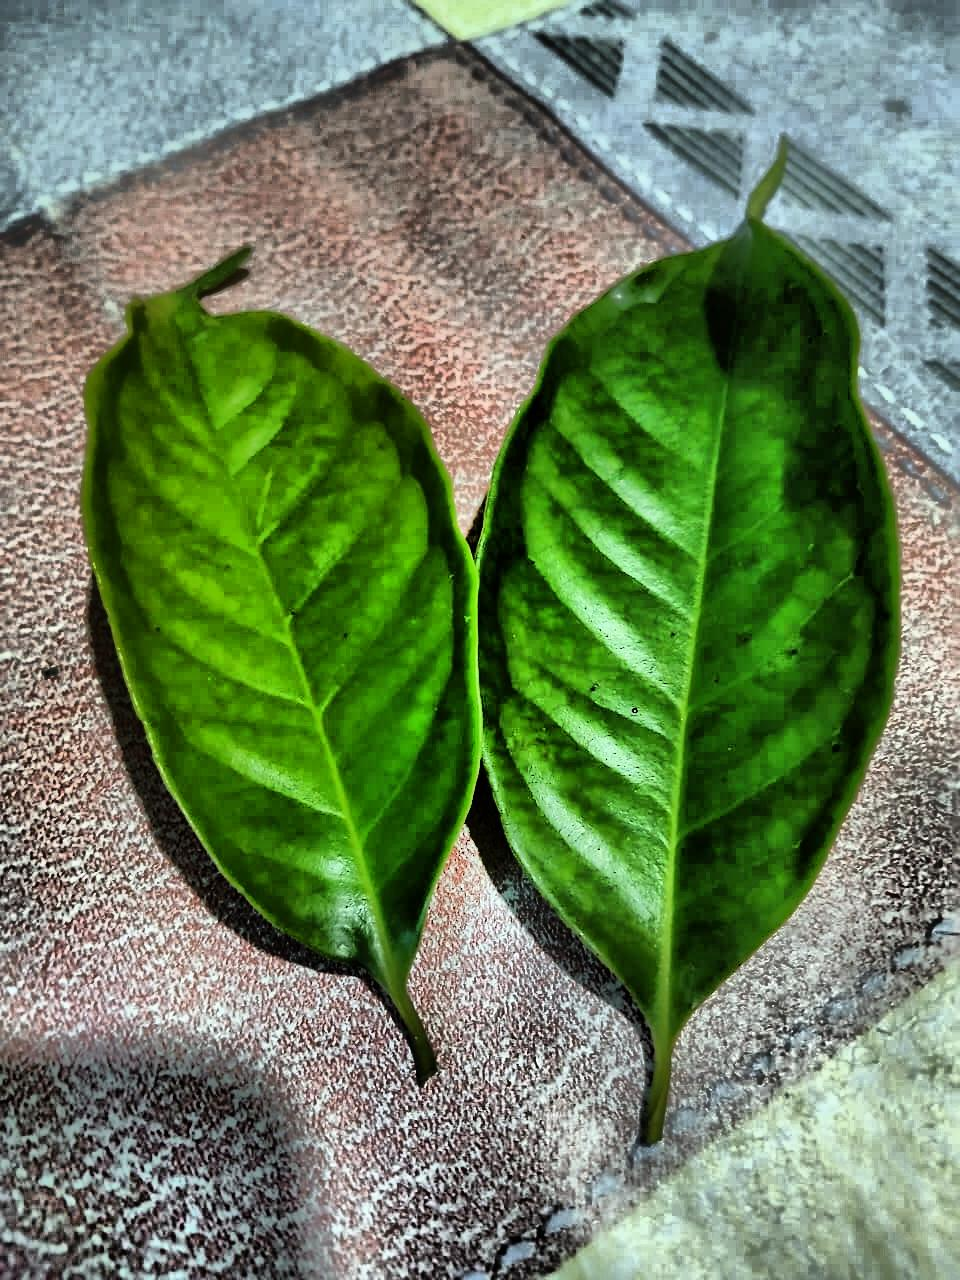daun salam: (479, 148, 898, 1138), (83, 248, 479, 1074)
